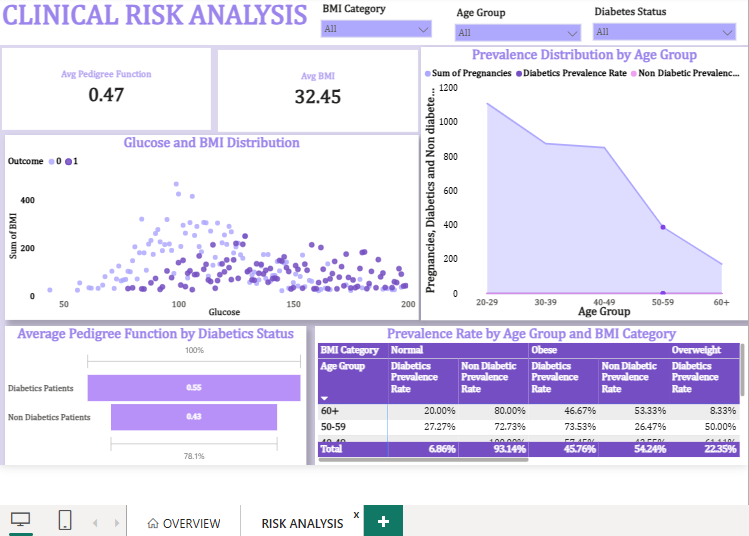

The dashboard page shown, as its layout file describes it:
{"tool":"powerbi","page":{"name":"RISK ANALYSIS ","canvas":[1280,800],"ordinal":1},"visuals":[{"type":"cardVisual","fields":{"Data":["Measures Overview.Avg BMI"]},"box":[369.1,85.4,352,150.4],"z":1000},{"type":"scatterChart","title":"Glucose and BMI Distribution","fields":{"Y":["Sum(diabetes_dataset (2).BMI)"],"Series":["diabetes_dataset (2).Outcome"],"X":["diabetes_dataset (2).Glucose"]},"box":[10.3,235.8,707,316.2],"z":2000},{"type":"lineChart","title":" Prevalence Distribution  by Age Group","fields":{"Y":["Sum(diabetes_dataset (2).Pregnancies)","Measures Overview.Diabetics Prevalence Rate","Measures Overview.Non Diabetic Prevalence Rate"],"Category":["diabetes_dataset (2).Age Group"]},"box":[721.2,85.4,558.8,466.5],"z":3000},{"type":"funnel","title":"Average Pedigree Function by Diabetics Status","fields":{"Category":["diabetes_dataset (2).Diabetes Status"],"Y":["Measures Overview.Avg Pedigree Function"]},"box":[11,562.2,515,237.8],"z":4000},{"type":"pivotTable","title":"Prevalence Rate by Age Group and BMI Category","fields":{"Rows":["diabetes_dataset (2).Age Group"],"Columns":["diabetes_dataset (2).BMI Category"],"Values":["Measures Overview.Diabetics Prevalence Rate","Measures Overview.Non Diabetic Prevalence Rate"]},"box":[540.2,562.2,740.2,237.8],"z":5000},{"type":"textbox","box":[0,0,1280.3,81.9],"z":7000},{"type":"slicer","fields":{"Values":["diabetes_dataset (2).Age Group"]},"box":[769,12,235.8,70.1],"z":8000},{"type":"slicer","fields":{"Values":["diabetes_dataset (2).BMI Category"]},"box":[540,5.1,210.2,70.1],"z":9000},{"type":"cardVisual","fields":{"Data":["Measures Overview.Avg Pedigree Function"]},"box":[0,82,367.4,150.4],"z":10000},{"type":"slicer","fields":{"Values":["diabetes_dataset (2).Diabetes Status"]},"box":[1004.9,10.3,264.9,71.8],"z":11000}]}

Visuals, with their boxes on the page's 1280x800 design canvas (x1, y1, x2, y2). These are canvas units, not pixel positions in the 749x536 screenshot, which may show the page scaled, cropped or inside an application window:
cardVisual - Measures Overview.Avg BMI: bbox=[369, 85, 721, 236]
"Glucose and BMI Distribution" scatterChart: bbox=[10, 236, 717, 552]
" Prevalence Distribution  by Age Group" lineChart: bbox=[721, 85, 1280, 552]
"Average Pedigree Function by Diabetics Status" funnel: bbox=[11, 562, 526, 800]
"Prevalence Rate by Age Group and BMI Category" pivotTable: bbox=[540, 562, 1280, 800]
textbox: bbox=[0, 0, 1280, 82]
slicer - diabetes_dataset (2).Age Group: bbox=[769, 12, 1005, 82]
slicer - diabetes_dataset (2).BMI Category: bbox=[540, 5, 750, 75]
cardVisual - Measures Overview.Avg Pedigree Function: bbox=[0, 82, 367, 232]
slicer - diabetes_dataset (2).Diabetes Status: bbox=[1005, 10, 1270, 82]
